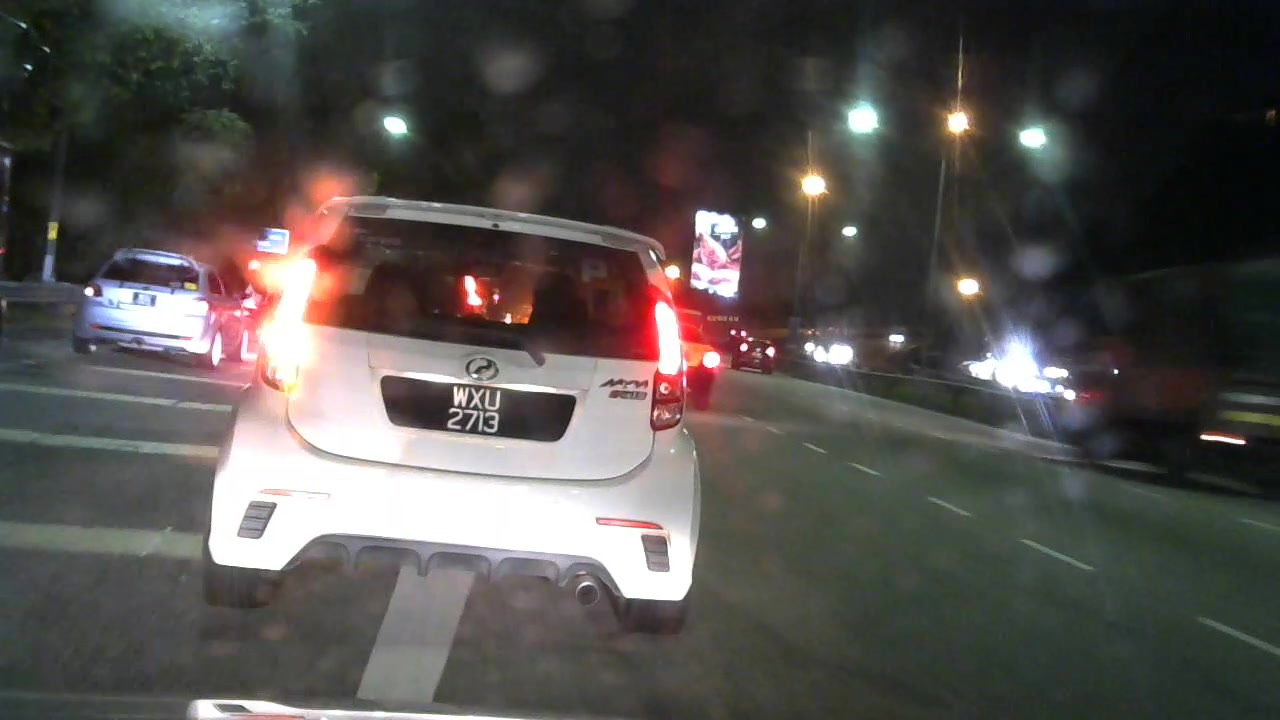Car: (229, 182, 718, 630), (67, 247, 241, 359), (727, 331, 783, 379)
